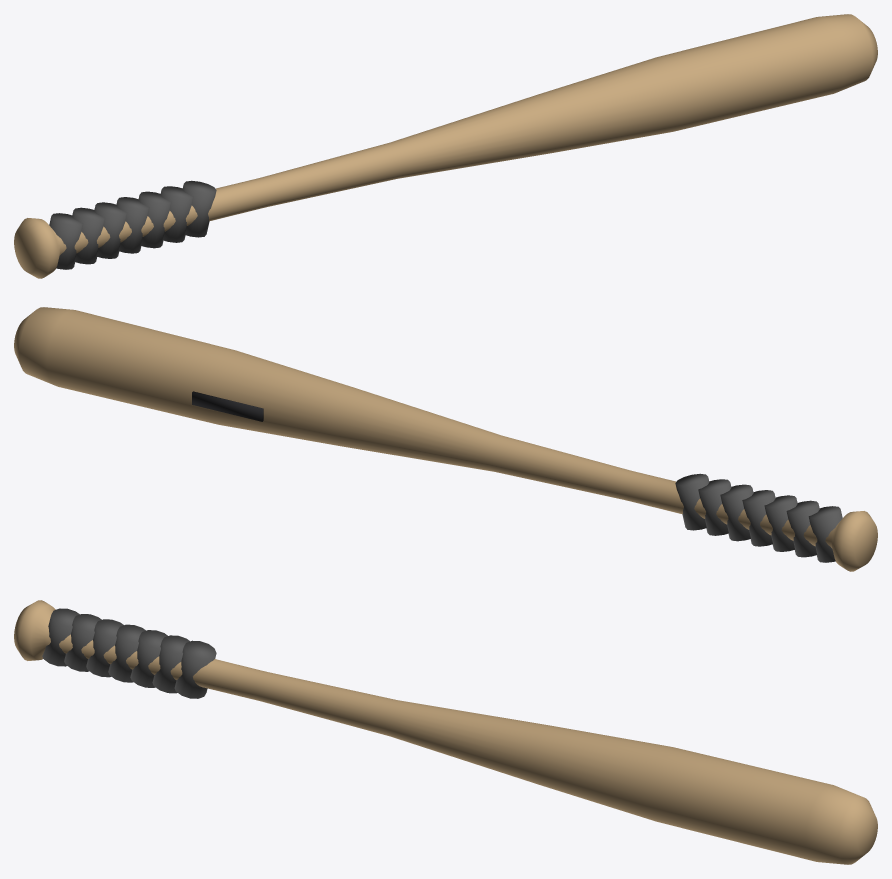
Rendered from SM_BaseballBat.glb.
The picture shows the model from 3 angles, top to bottom: view 1: azimuth 30°, elevation 25°; view 2: azimuth 150°, elevation 25°; view 3: azimuth 330°, elevation 25°; orthographic projection.
Parts seen in each view (by area): view 1: SM_BaseballBat; view 2: SM_BaseballBat; view 3: SM_BaseballBat.
Boxes of the visible parts, bbox=[...] form: SM_BaseballBat: bbox=[14, 14, 877, 278]; SM_BaseballBat: bbox=[14, 307, 877, 571]; SM_BaseballBat: bbox=[14, 600, 877, 864].
Bounding box in the file's own units: 0.842 × 0.068 × 0.0685.
